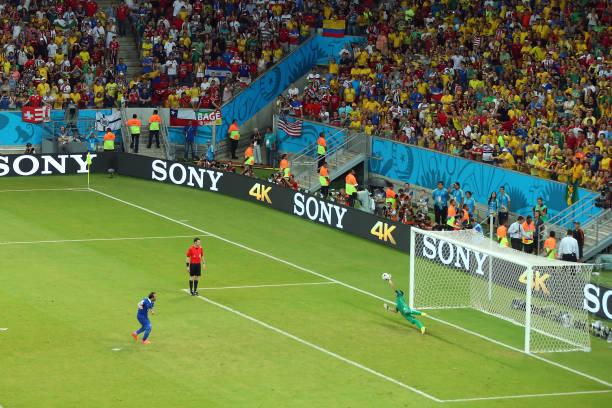Goalkeeper: (382, 274, 426, 334)
Player: (131, 292, 159, 344)
ball: (381, 274, 391, 280)
referee: (185, 238, 207, 296)
